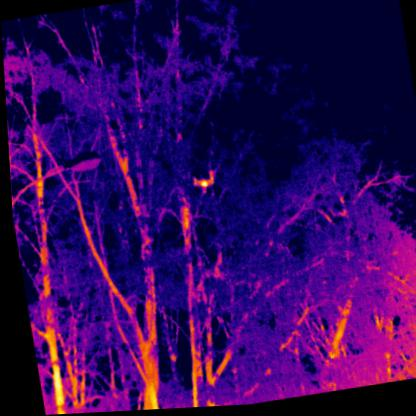drone: (190, 175, 211, 195)
